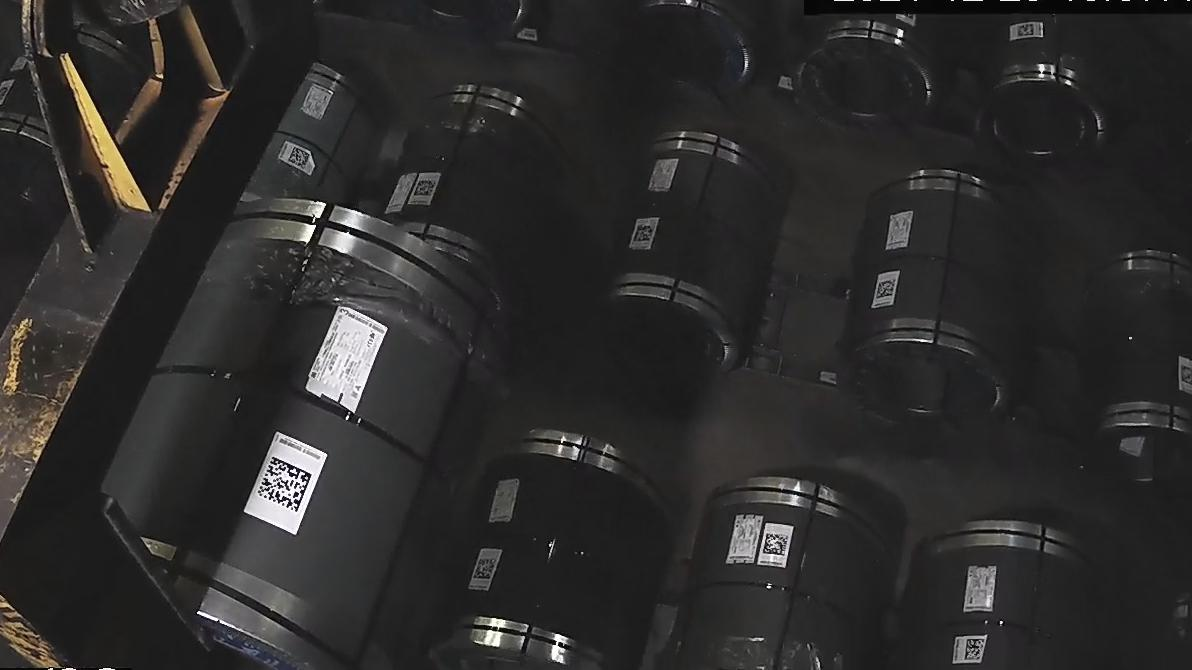data matrix: (256, 454, 315, 515), (762, 530, 791, 559), (472, 556, 499, 582), (288, 146, 312, 171), (873, 278, 899, 301), (964, 637, 987, 663), (632, 224, 657, 246), (413, 179, 437, 198), (1015, 22, 1036, 41), (1180, 364, 1192, 389)
